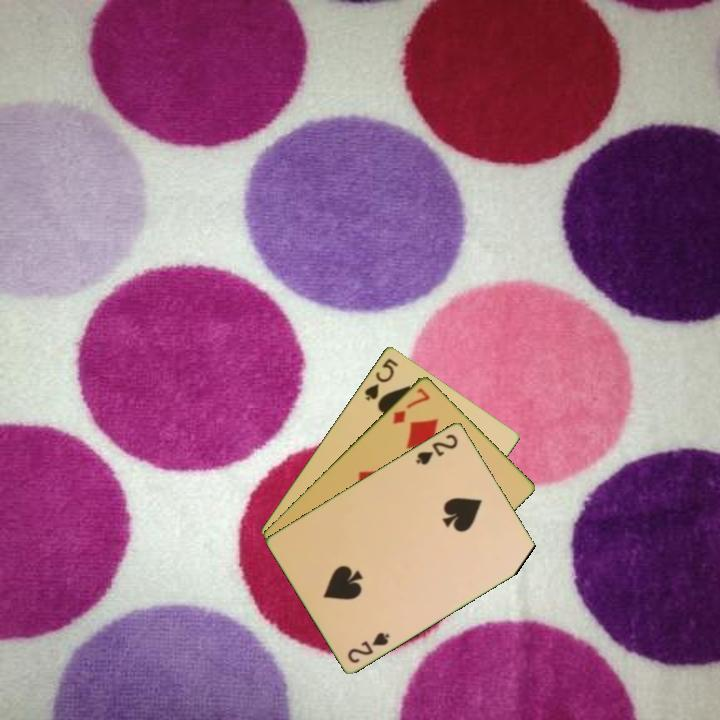2s: (344, 628, 393, 666), (413, 430, 461, 467)
5s: (361, 354, 401, 403)
7d: (389, 384, 433, 426)
